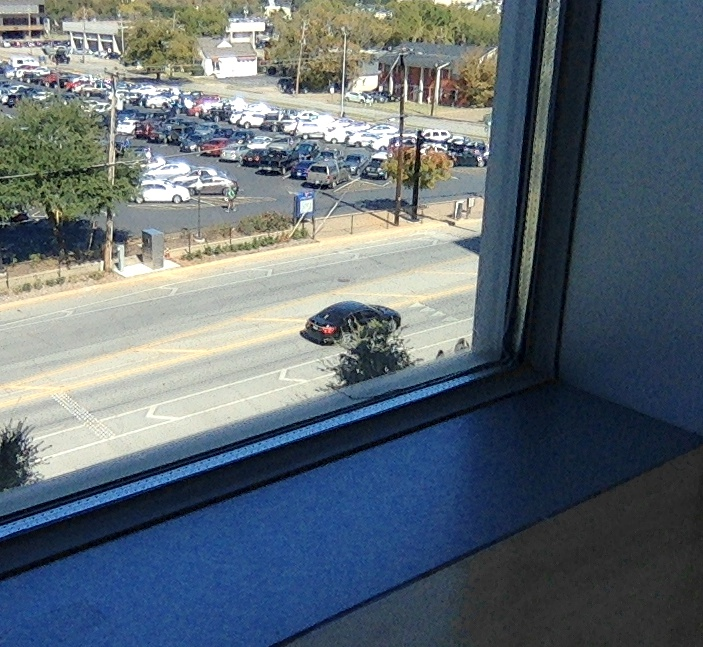car: (300, 300, 403, 347)
